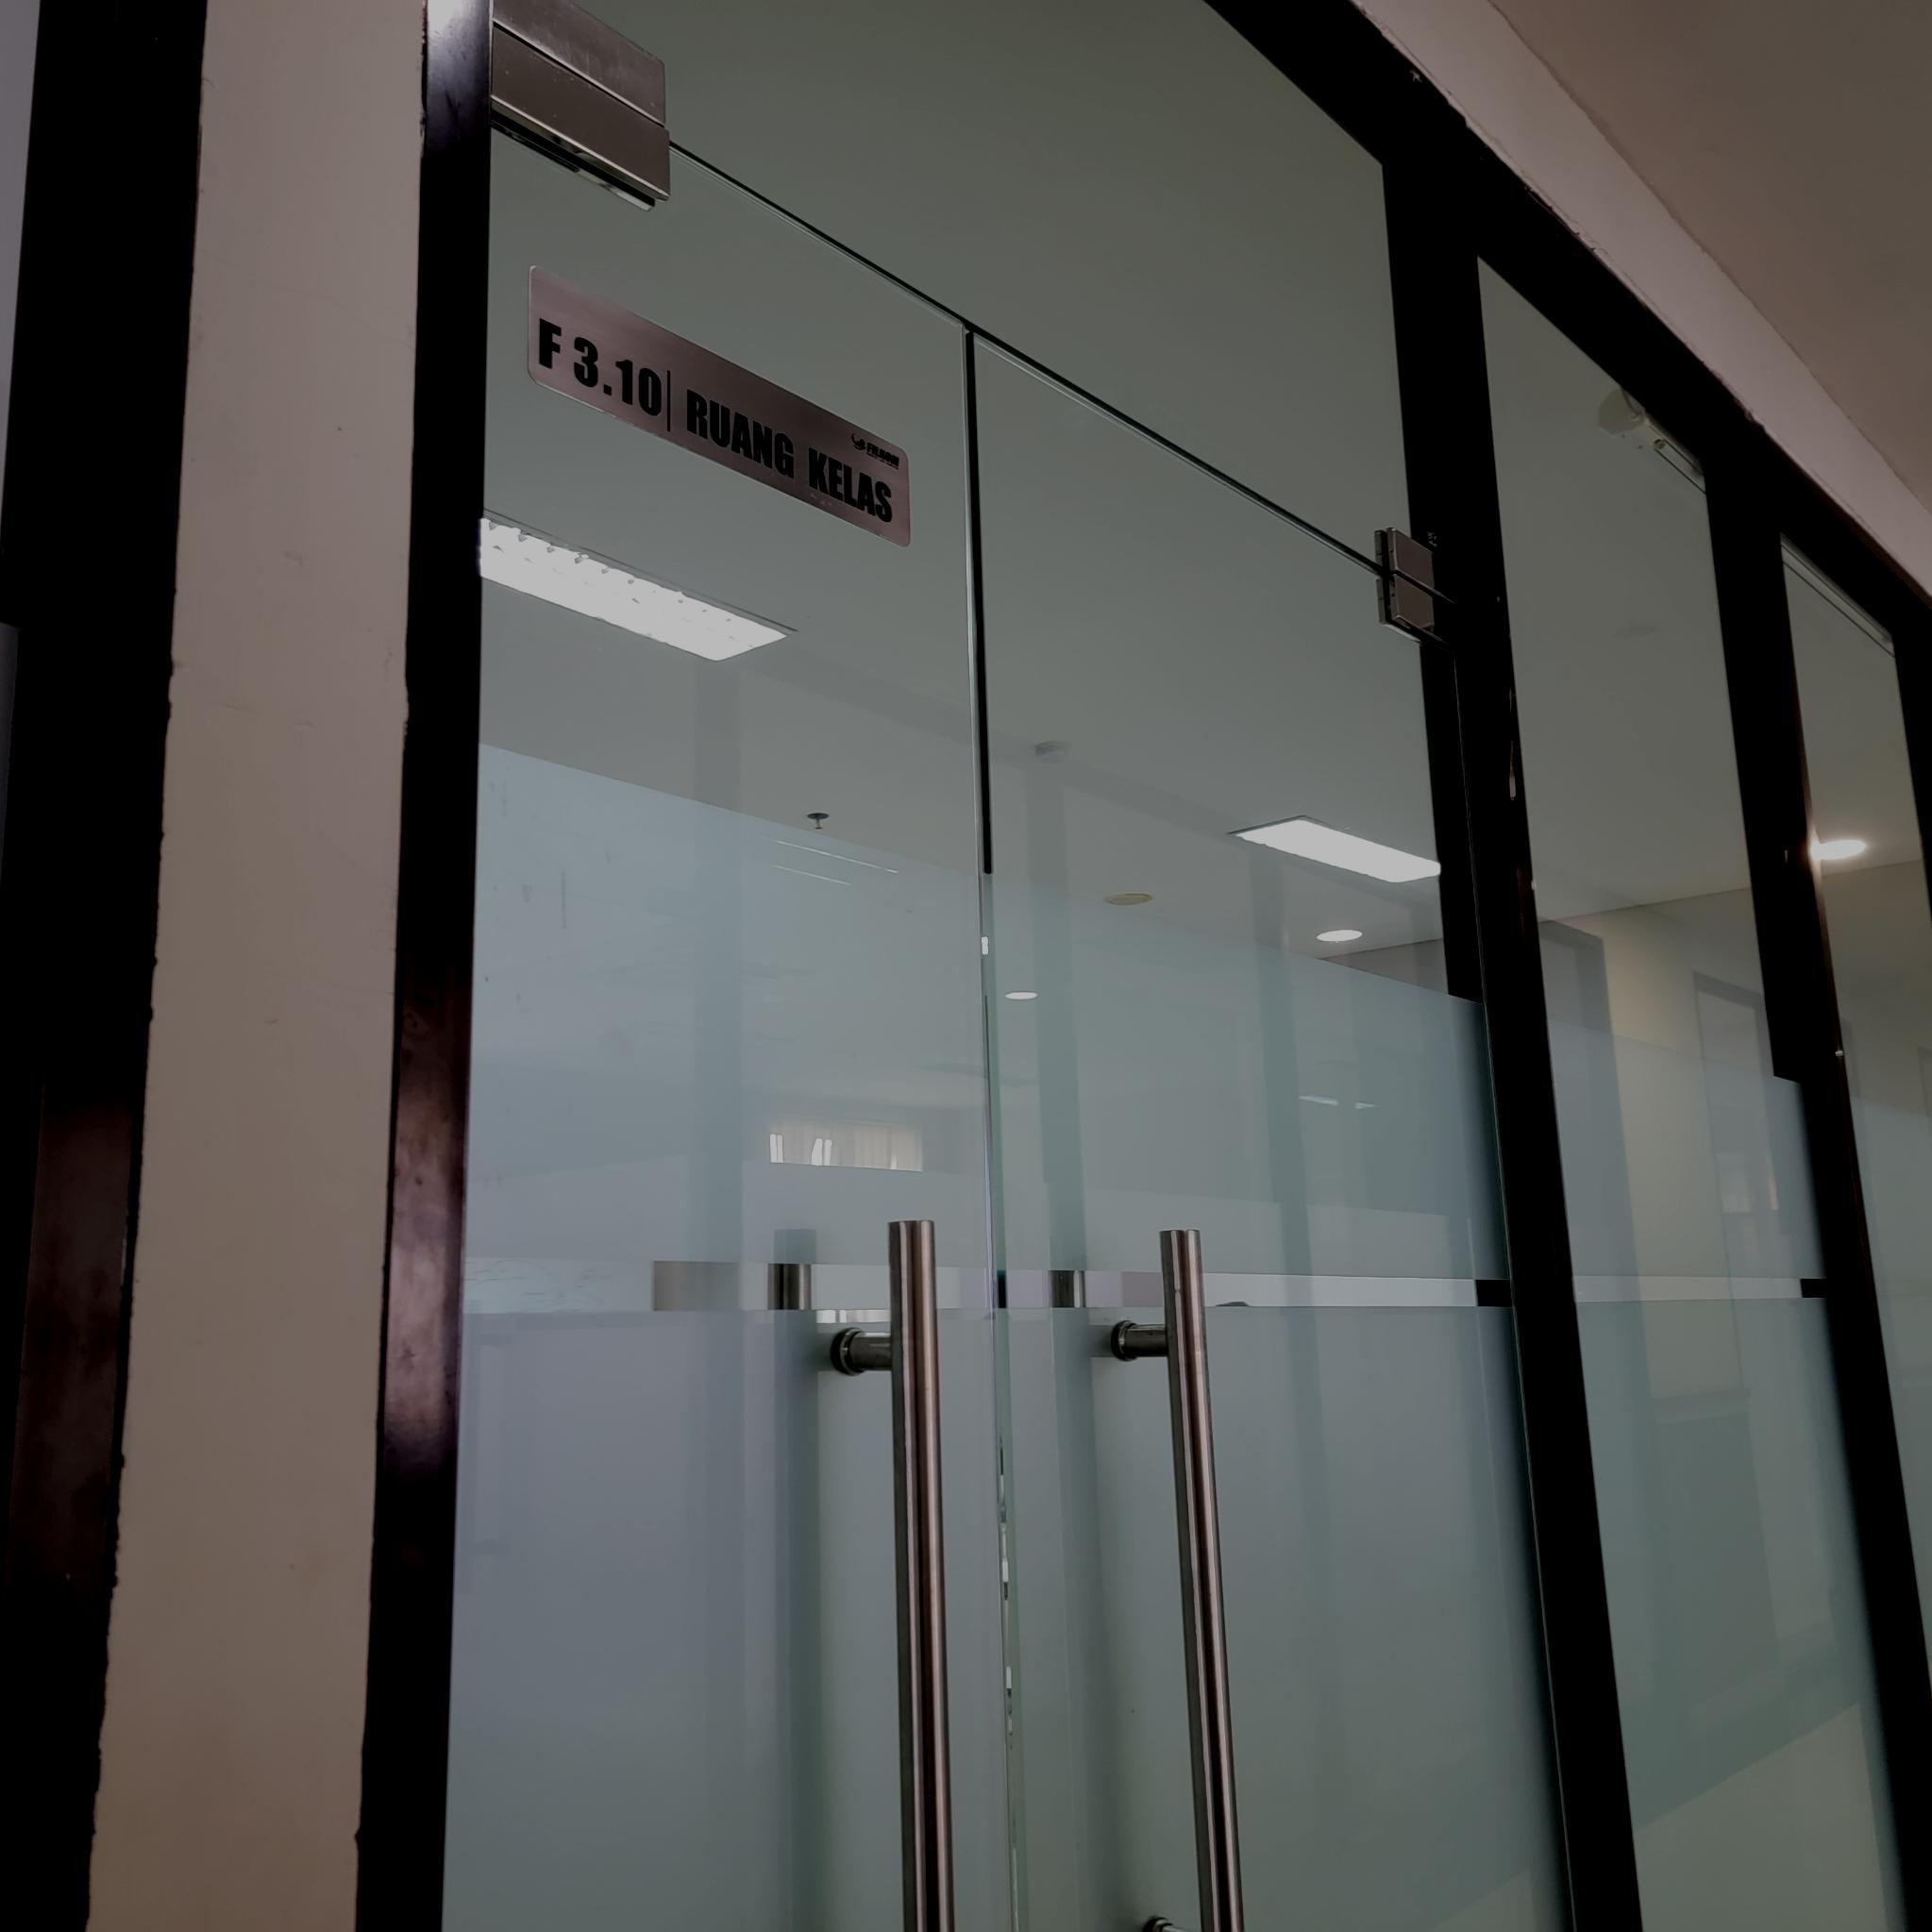plate: (525, 262, 911, 552)
